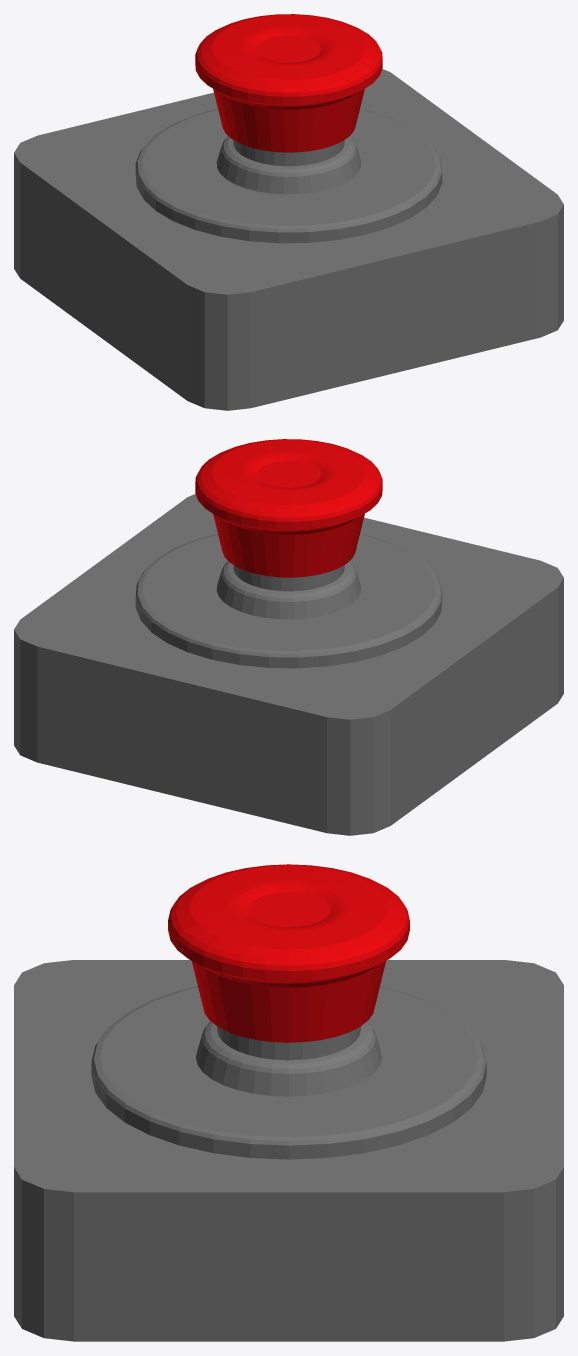
Rendered from button.glb.
3 views of the same model, one above another, from view 1: azimuth 30°, elevation 25°; view 2: azimuth 150°, elevation 25°; view 3: azimuth 270°, elevation 25° (orthographic). The views are drawn at different scales.
Parts seen in each view (by area): view 1: Cube; view 2: Cube; view 3: Cube.
Part boxes in pixels (x1=…): Cube: x1=14, y1=14, x2=563, y2=410; Cube: x1=14, y1=439, x2=563, y2=835; Cube: x1=14, y1=864, x2=563, y2=1341.
Size of the model in its own units: 2 by 1.28 by 2.
